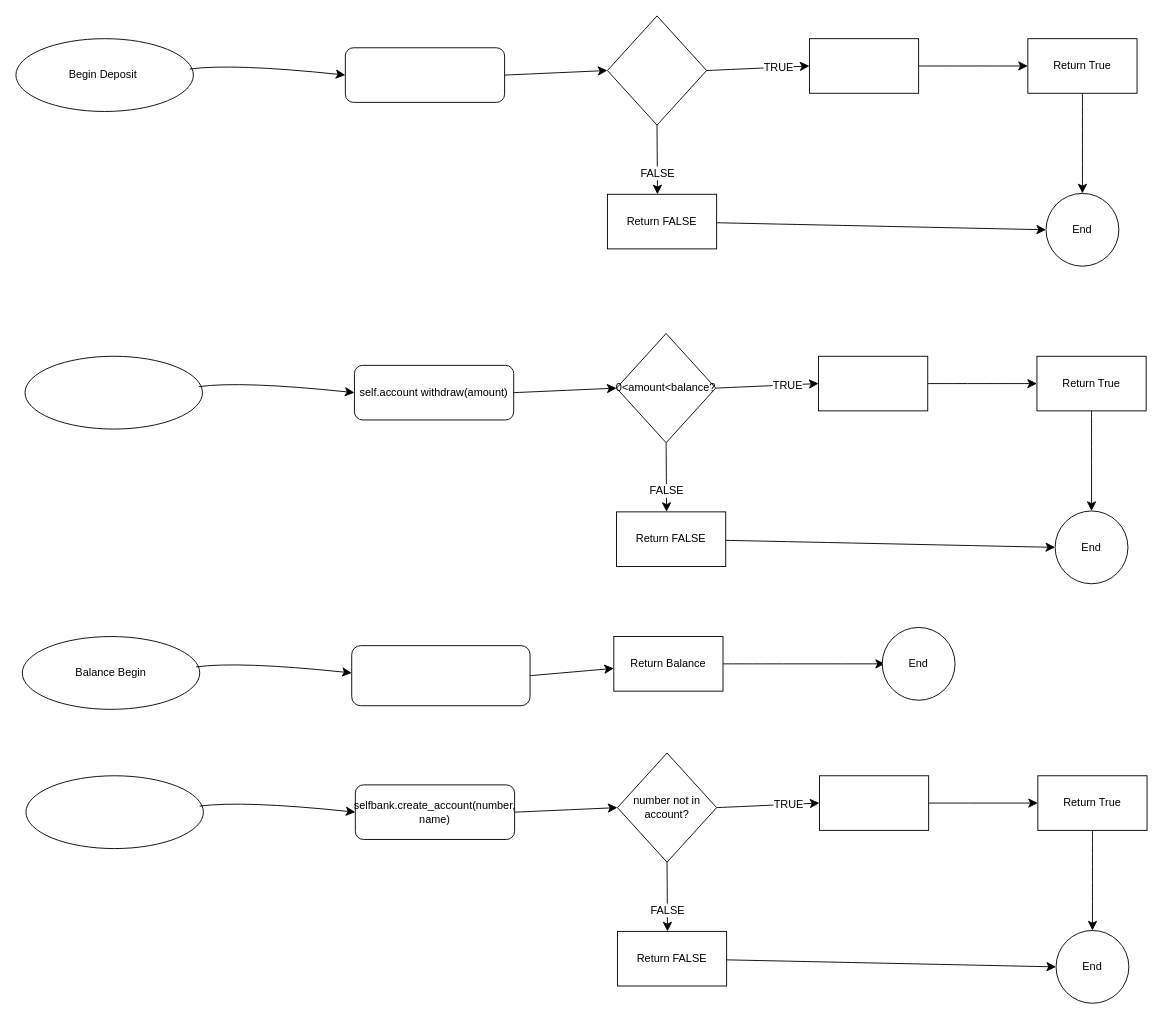
The diagram is 1163 pixels wide and 1019 high, and some of its shapes have lost their labels. The centre of each missing label's shape, as x and y in pixels:
"Amount>0?" belongs at [657,70].
"balance + amount" belongs at [864,65].
"balance - amount" belongs at [873,383].
"Create Account" belongs at [874,802].
"Create Account Begin" belongs at [114,812].
"self.account deposit(amount)" belongs at [424,74].
"self.account_get_balance()" belongs at [440,675].
"Withdraw Begin" belongs at [113,392].
